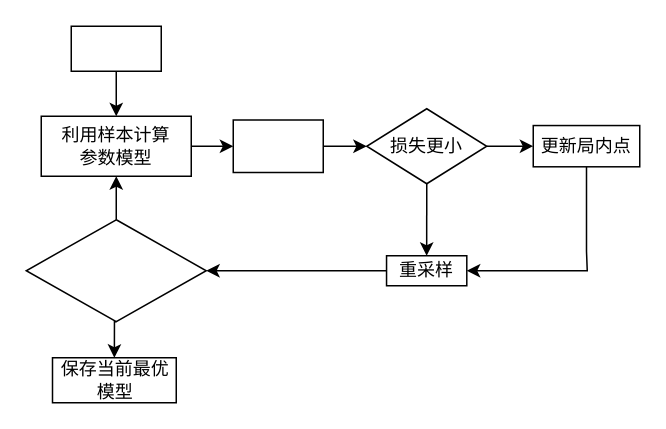
Some shapes in this 666 by 429 pixel diagram are drawn without their labels. Each missing label, with the centre of its shape:
"模型检验" goes at point (277, 145).
"达到最大迭代次数" goes at point (115, 270).
"采样" goes at point (115, 48).
